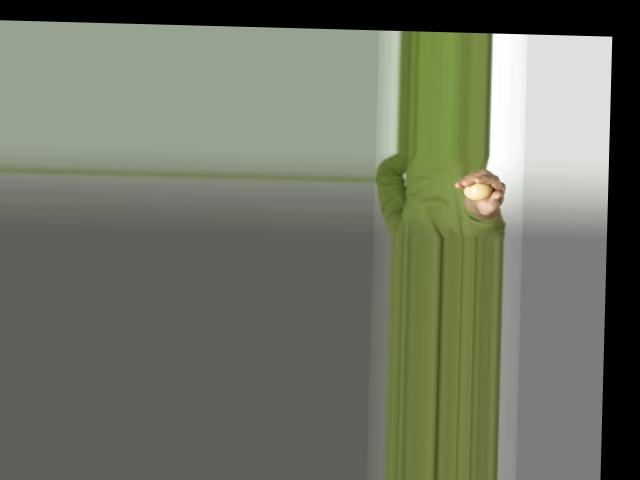egg: (462, 182, 492, 200)
